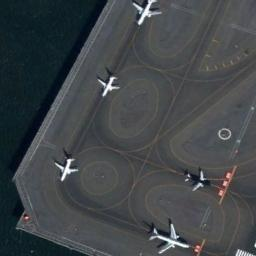Airplane: (148, 222, 191, 254), (128, 0, 162, 33), (52, 152, 82, 184), (95, 70, 121, 100), (185, 164, 209, 193)
